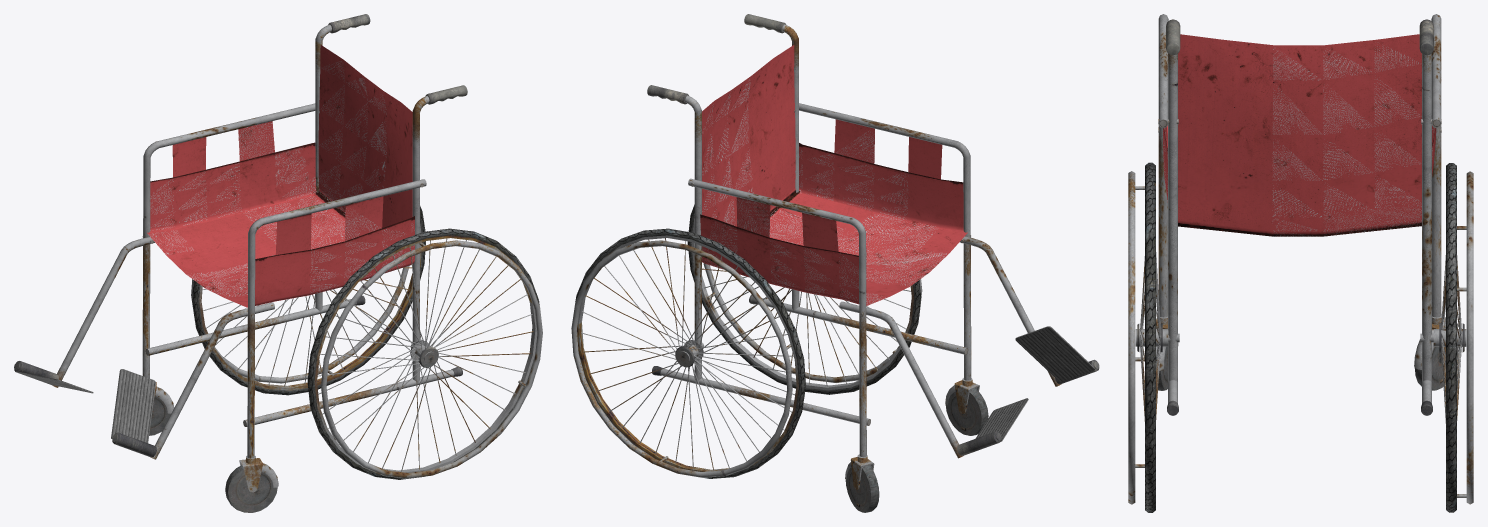
Rendered from Wheelchair.fbx.
3 renders of one model, left to right at view 1: azimuth 30°, elevation 25°; view 2: azimuth 150°, elevation 25°; view 3: azimuth 270°, elevation 25°, orthographic. The views are drawn at different scales.
Visible parts, largest first — view 1: Wheelchair; view 2: Wheelchair; view 3: Wheelchair.
Boxes of the visible parts, x1,y1,x2,y2 form: Wheelchair: [14, 14, 542, 512]; Wheelchair: [571, 14, 1099, 512]; Wheelchair: [1128, 14, 1473, 512].
Bounding box in the file's own units: 1.61 × 1.37 × 0.8818.
